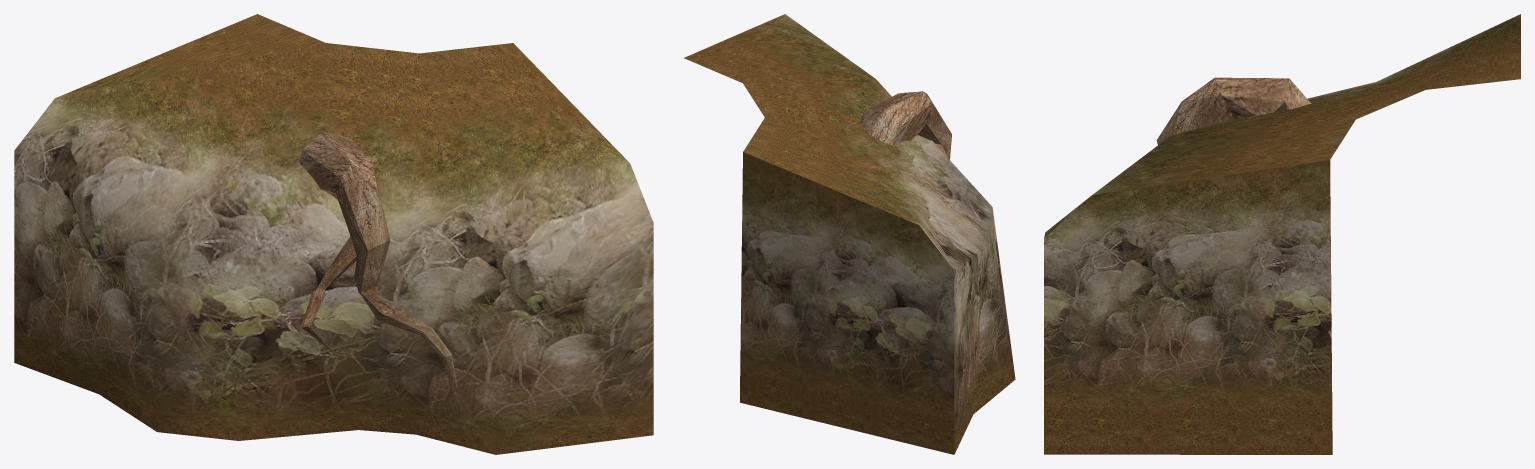
File: n_tilewallC_7.glb
The picture shows the model from 3 angles, left to right: view 1: azimuth 30°, elevation 25°; view 2: azimuth 150°, elevation 25°; view 3: azimuth 270°, elevation 25°; orthographic projection. The views are drawn at different scales.
Parts seen in each view (by area): view 1: n_tilewallC_7; view 2: n_tilewallC_7; view 3: n_tilewallC_7.
Part boxes in pixels (x1,y1,x2,y2): n_tilewallC_7: (14, 14, 653, 454); n_tilewallC_7: (684, 14, 1015, 454); n_tilewallC_7: (1044, 14, 1520, 454).
Bounding box in the file's own units: 5 × 3.42 × 5.
Materials: 2 (2 with a texture image).
